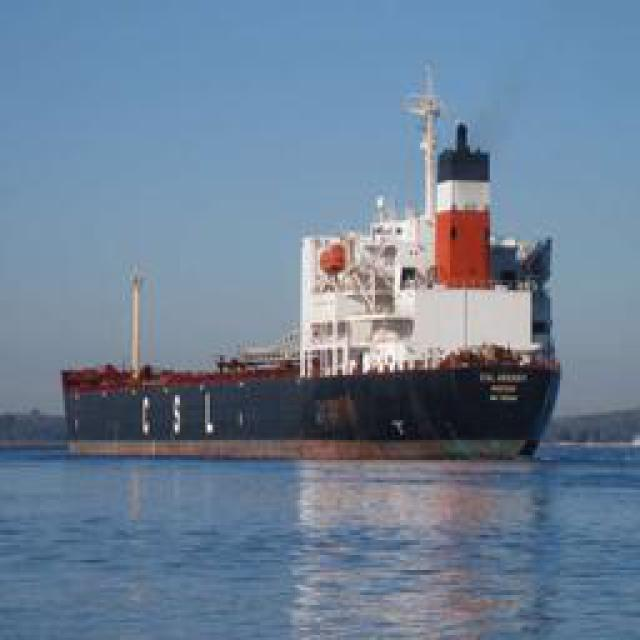Ship: (64, 108, 554, 453)
